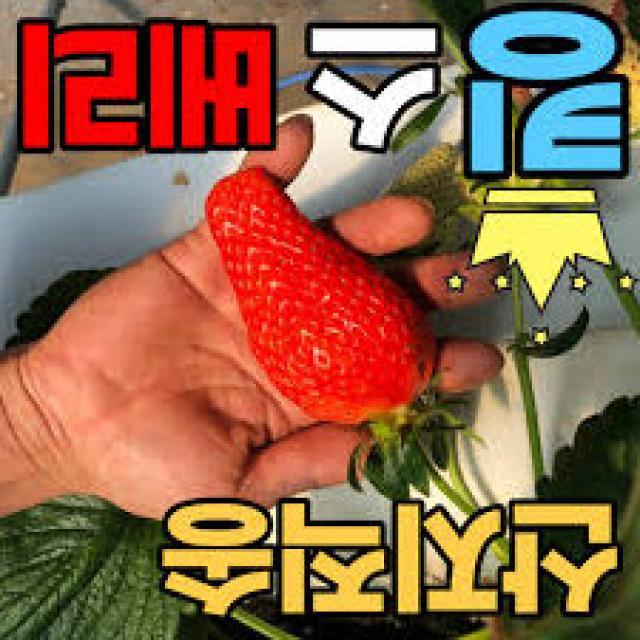mature: (205, 165, 440, 428)
